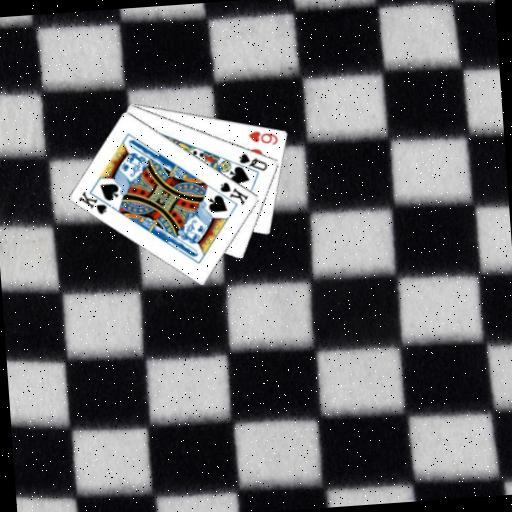6H: (245, 127, 280, 148)
KS: (76, 186, 115, 217), (217, 178, 251, 209)
QS: (236, 148, 270, 174)
